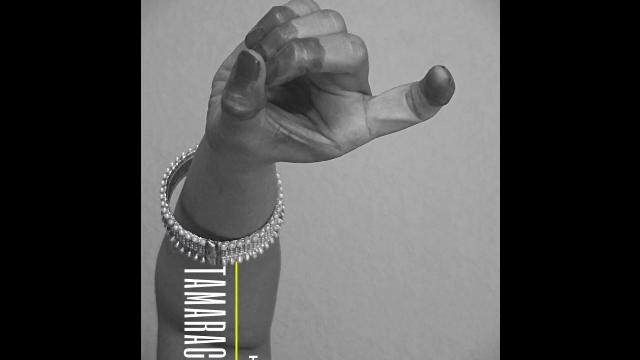tamrachud: (169, 0, 470, 185)
